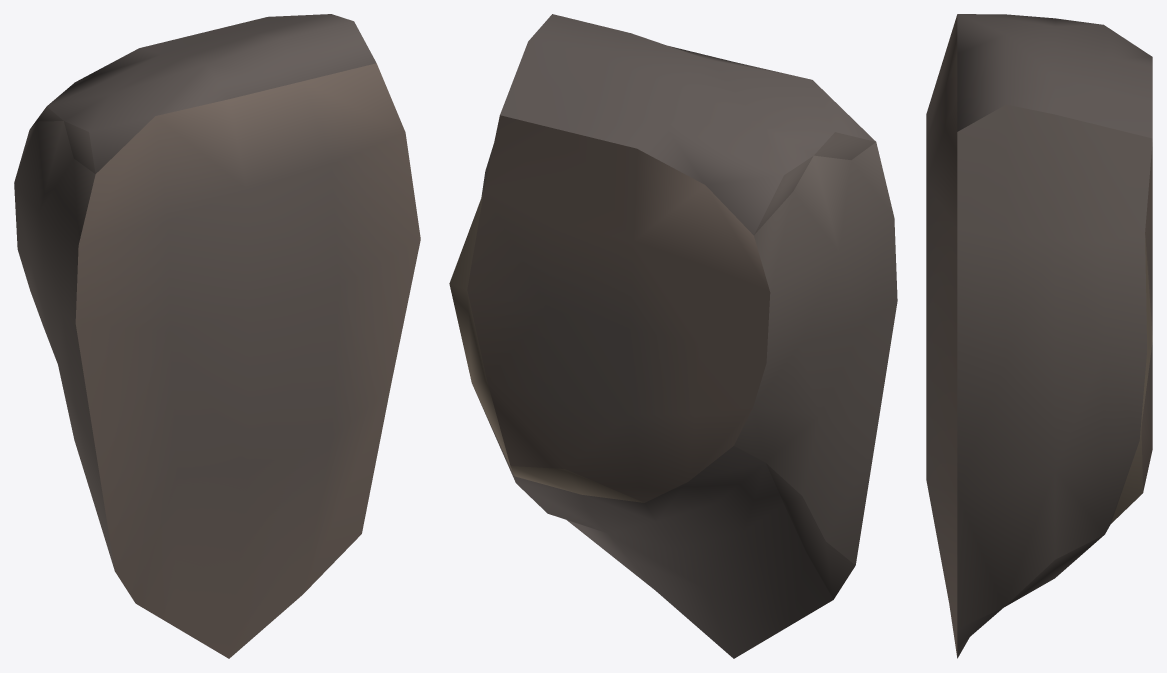
File: RockSmall.004.glb
3 views of the same model, side by side, from view 1: azimuth 30°, elevation 25°; view 2: azimuth 150°, elevation 25°; view 3: azimuth 270°, elevation 25° (orthographic). The views are drawn at different scales.
Visible parts, largest first — view 1: RockSmall.004; view 2: RockSmall.004; view 3: RockSmall.004.
Part boxes in pixels (x1,y1,x2,y2): RockSmall.004: (14,14,420,658); RockSmall.004: (449,14,897,658); RockSmall.004: (926,14,1152,658).
Bounding box in the file's own units: 139 × 225 × 73.17.
